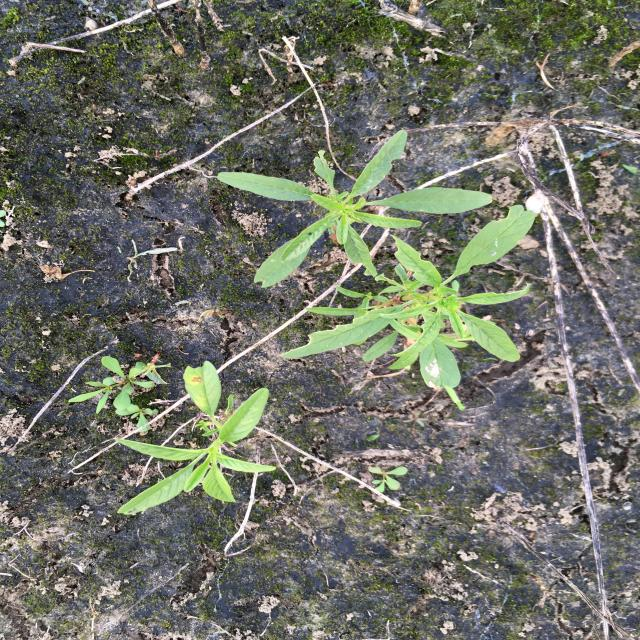Carpetweed: (65, 352, 171, 434), (365, 464, 409, 494)
Waterhemp: (273, 203, 538, 390), (216, 128, 496, 290), (114, 359, 279, 515)
